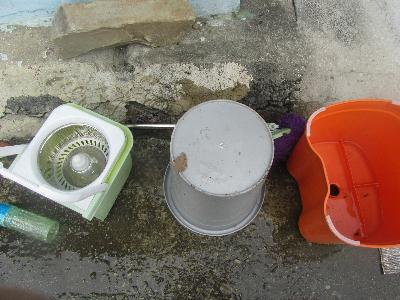bottle: (1, 201, 61, 247)
bucket: (160, 97, 278, 242), (4, 100, 138, 227), (286, 97, 399, 246)
